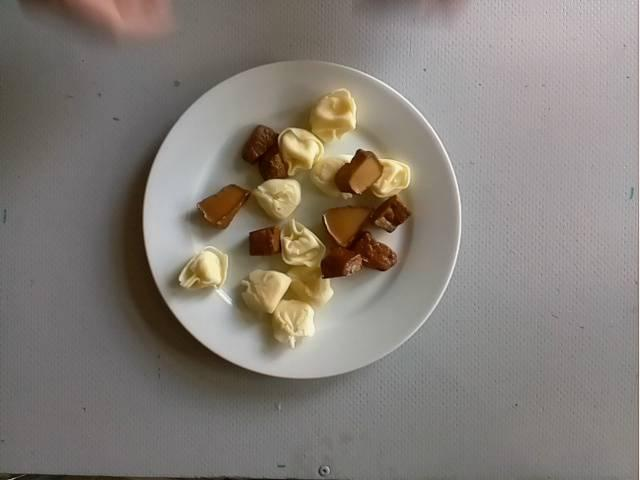Tortellini + meat: (175, 88, 412, 344)
